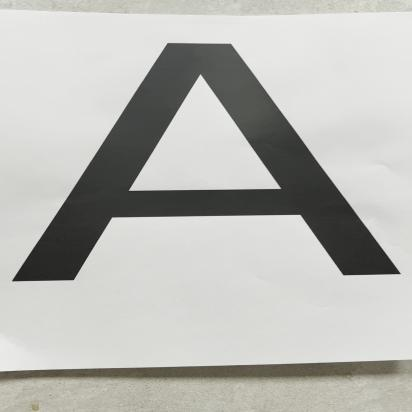seat: (0, 18, 412, 325)
